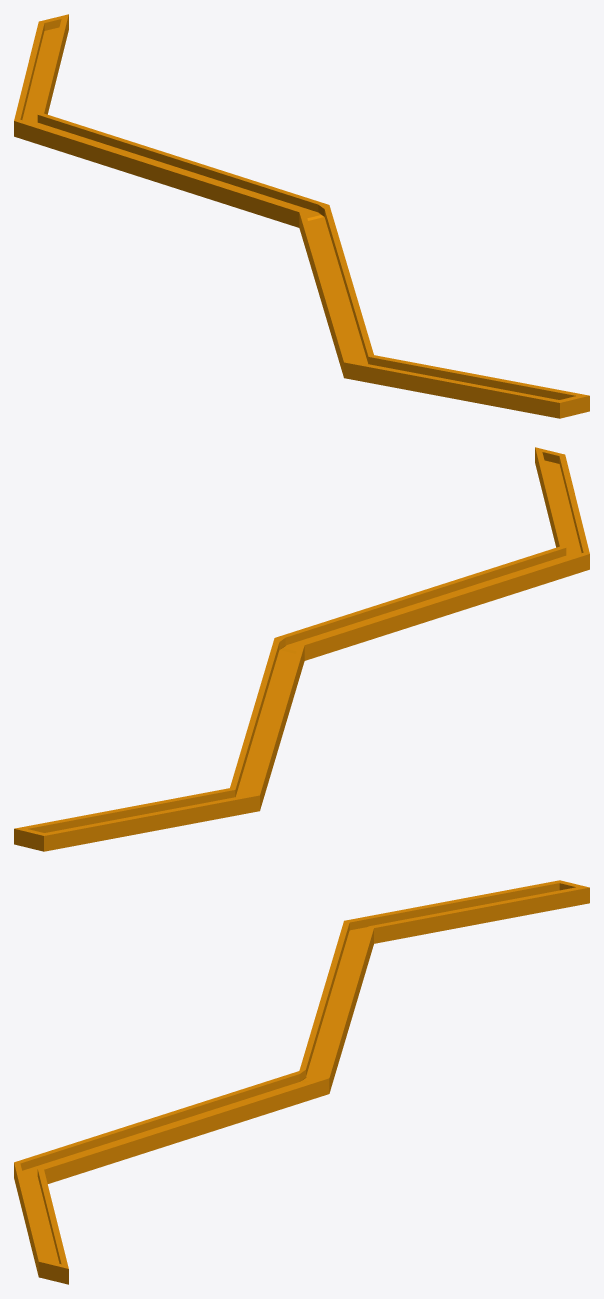
File: pista2.fbx
3 renders of one model, top to bottom at view 1: azimuth 30°, elevation 25°; view 2: azimuth 150°, elevation 25°; view 3: azimuth 330°, elevation 25°, orthographic.
Parts seen in each view (by area): view 1: Lama; view 2: Lama; view 3: Lama.
Part boxes in pixels (left/top/right/bottom): Lama: left=14, top=14, right=589, bottom=418; Lama: left=14, top=447, right=589, bottom=851; Lama: left=14, top=880, right=589, bottom=1284.
Size of the model in its own units: 1000 by 100 by 6000.
